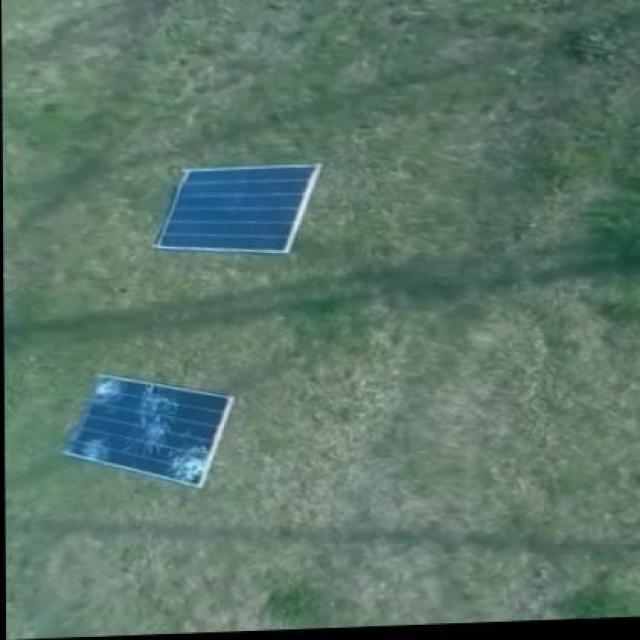cracked: (69, 375, 238, 491)
